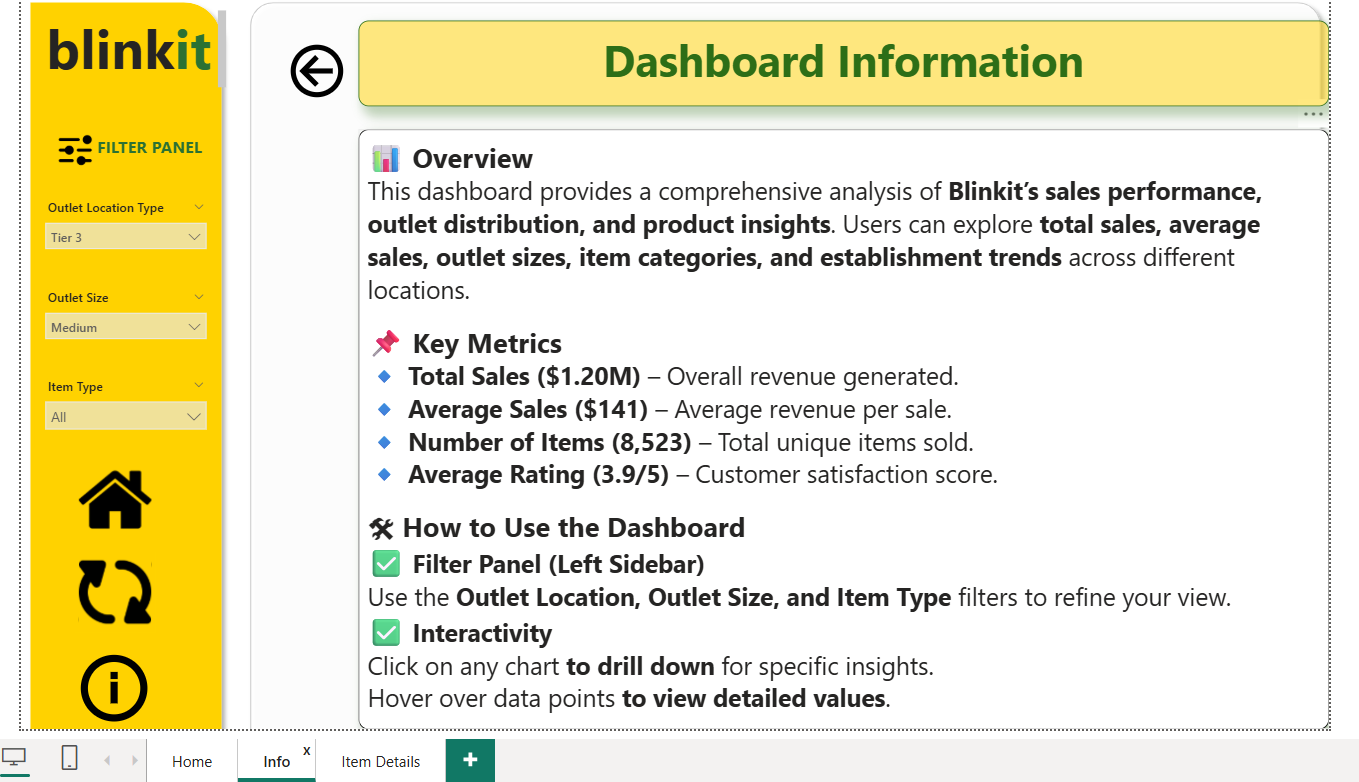

The dashboard page shown, as its layout file describes it:
{"tool":"powerbi","page":{"name":"Info","canvas":[1280,720],"ordinal":1},"visuals":[{"type":"shape","box":[215.3,0,1065.3,769.4],"z":0},{"type":"shape","box":[0,0,205.3,799],"z":1000},{"type":"textbox","box":[13.7,12.2,191.8,91.3],"z":2000},{"type":"textbox","box":[70,135,122,38],"z":3000},{"type":"image","box":[35,135,35,38],"z":4000},{"type":"slicer","fields":{"Values":["BlinkIT Grocery Data.Outlet Location Type"]},"box":[14,197.5,178.2,73.4],"z":5000},{"type":"slicer","fields":{"Values":["BlinkIT Grocery Data.Outlet Size"]},"box":[14,284.8,178.2,73.4],"z":6000},{"type":"slicer","fields":{"Values":["BlinkIT Grocery Data.Item Type"]},"box":[13,372,178,73],"z":7000},{"type":"actionButton","box":[52,456,79,79],"z":8000},{"type":"textbox","box":[330.7,132.9,949.3,587.1],"z":9000},{"type":"textbox","box":[330.7,27.5,949.3,84.1],"z":10000},{"type":"actionButton","box":[258,42,63,69],"z":11000},{"type":"actionButton","box":[52,641,77,79],"z":12000},{"type":"actionButton","box":[53,547,78.8,78.8],"z":13000}]}

Visuals, with their boxes on the page's 1280x720 design canvas (x1, y1, x2, y2). These are canvas units, not pixel positions in the 1359x782 screenshot, which may show the page scaled, cropped or inside an application window:
shape: BBox(215, 0, 1281, 769)
shape: BBox(0, 0, 205, 799)
textbox: BBox(14, 12, 206, 104)
textbox: BBox(70, 135, 192, 173)
image: BBox(35, 135, 70, 173)
slicer - BlinkIT Grocery Data.Outlet Location Type: BBox(14, 198, 192, 271)
slicer - BlinkIT Grocery Data.Outlet Size: BBox(14, 285, 192, 358)
slicer - BlinkIT Grocery Data.Item Type: BBox(13, 372, 191, 445)
actionButton: BBox(52, 456, 131, 535)
textbox: BBox(331, 133, 1280, 720)
textbox: BBox(331, 28, 1280, 112)
actionButton: BBox(258, 42, 321, 111)
actionButton: BBox(52, 641, 129, 720)
actionButton: BBox(53, 547, 132, 626)
